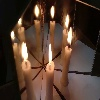fire: (48, 43, 53, 64)
